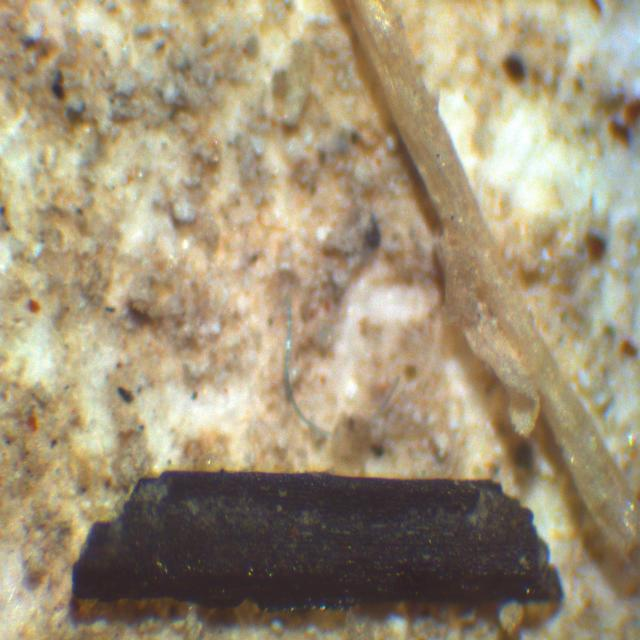microplastic: (284, 298, 338, 438)
